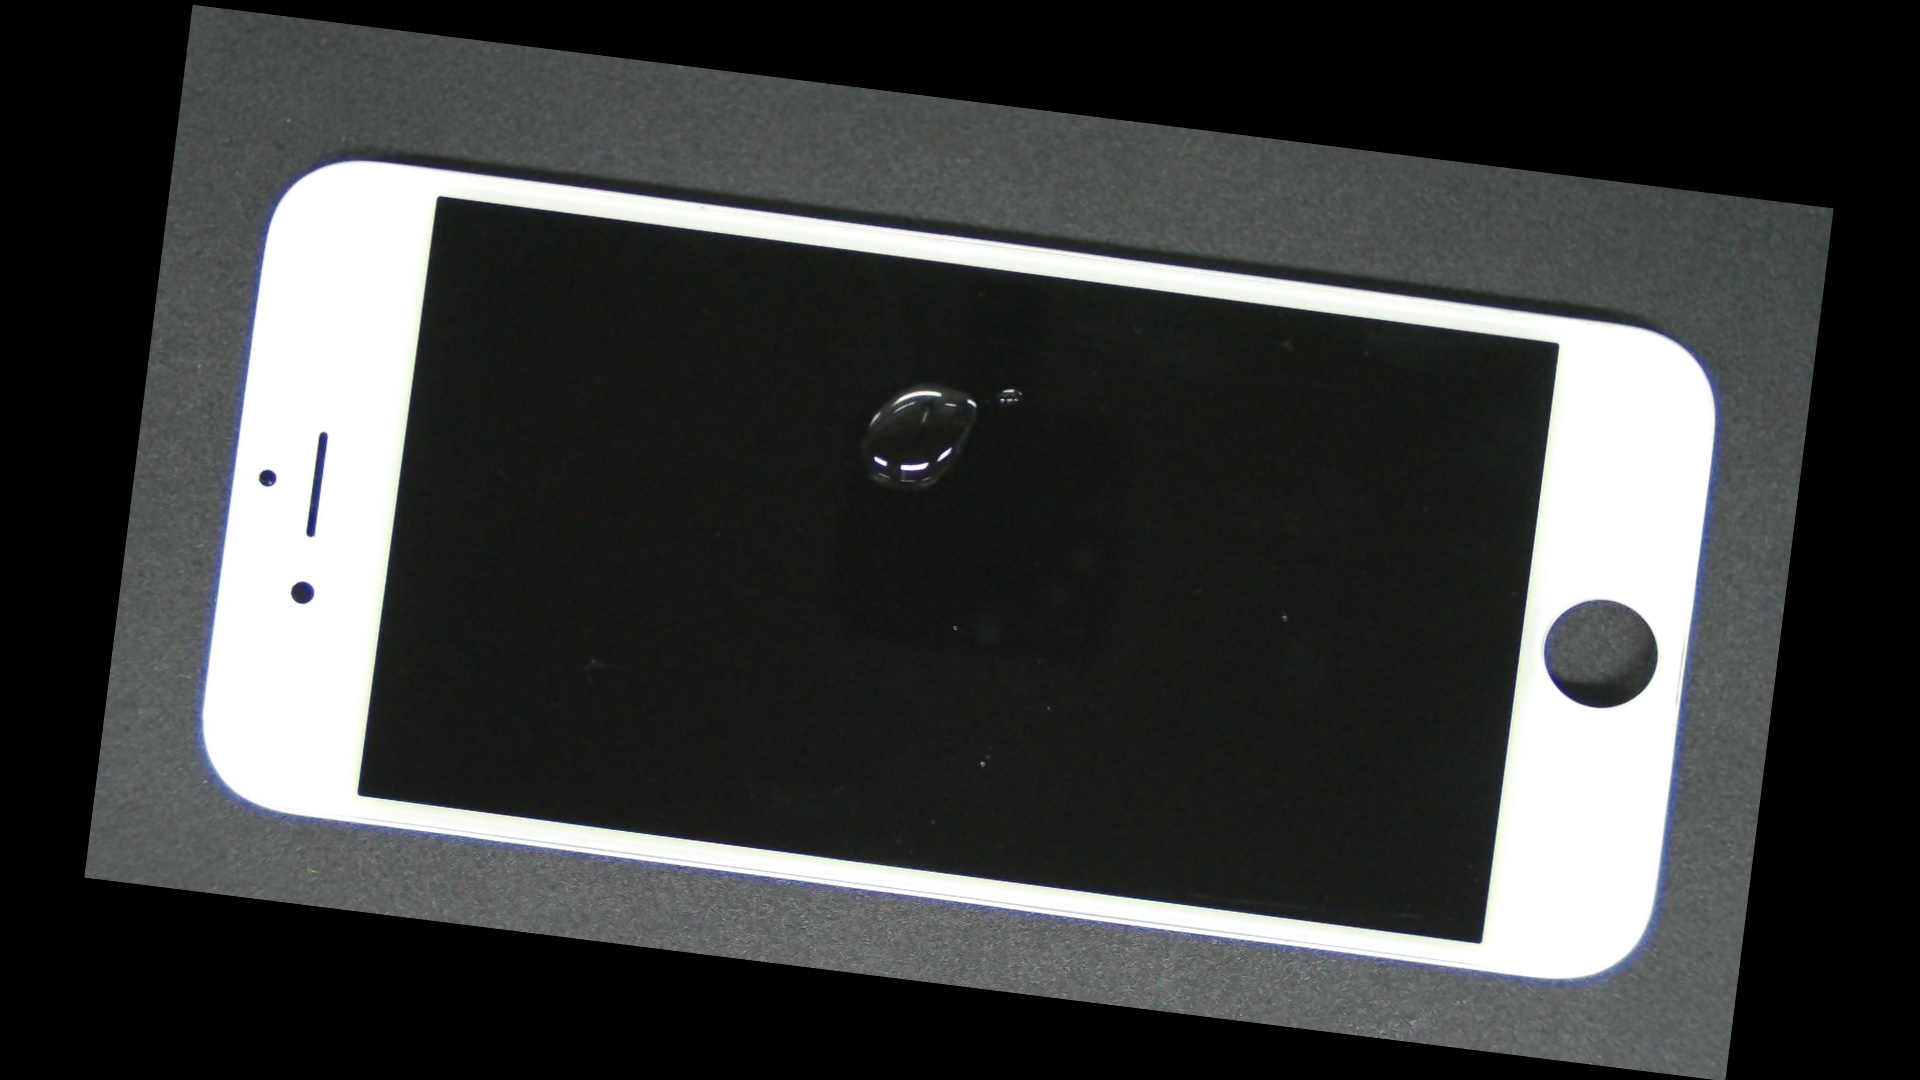oil: (568, 196, 1453, 580), (527, 193, 1333, 571)
